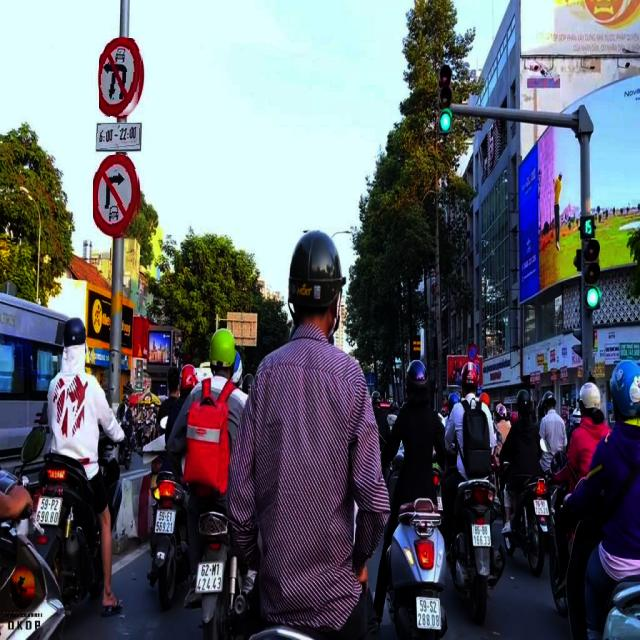cam_dung_xe_va_do_xe: (468, 344, 479, 362)
cam_o_to_re_phai: (94, 155, 140, 237)
khac: (99, 38, 144, 118), (96, 124, 141, 150)
